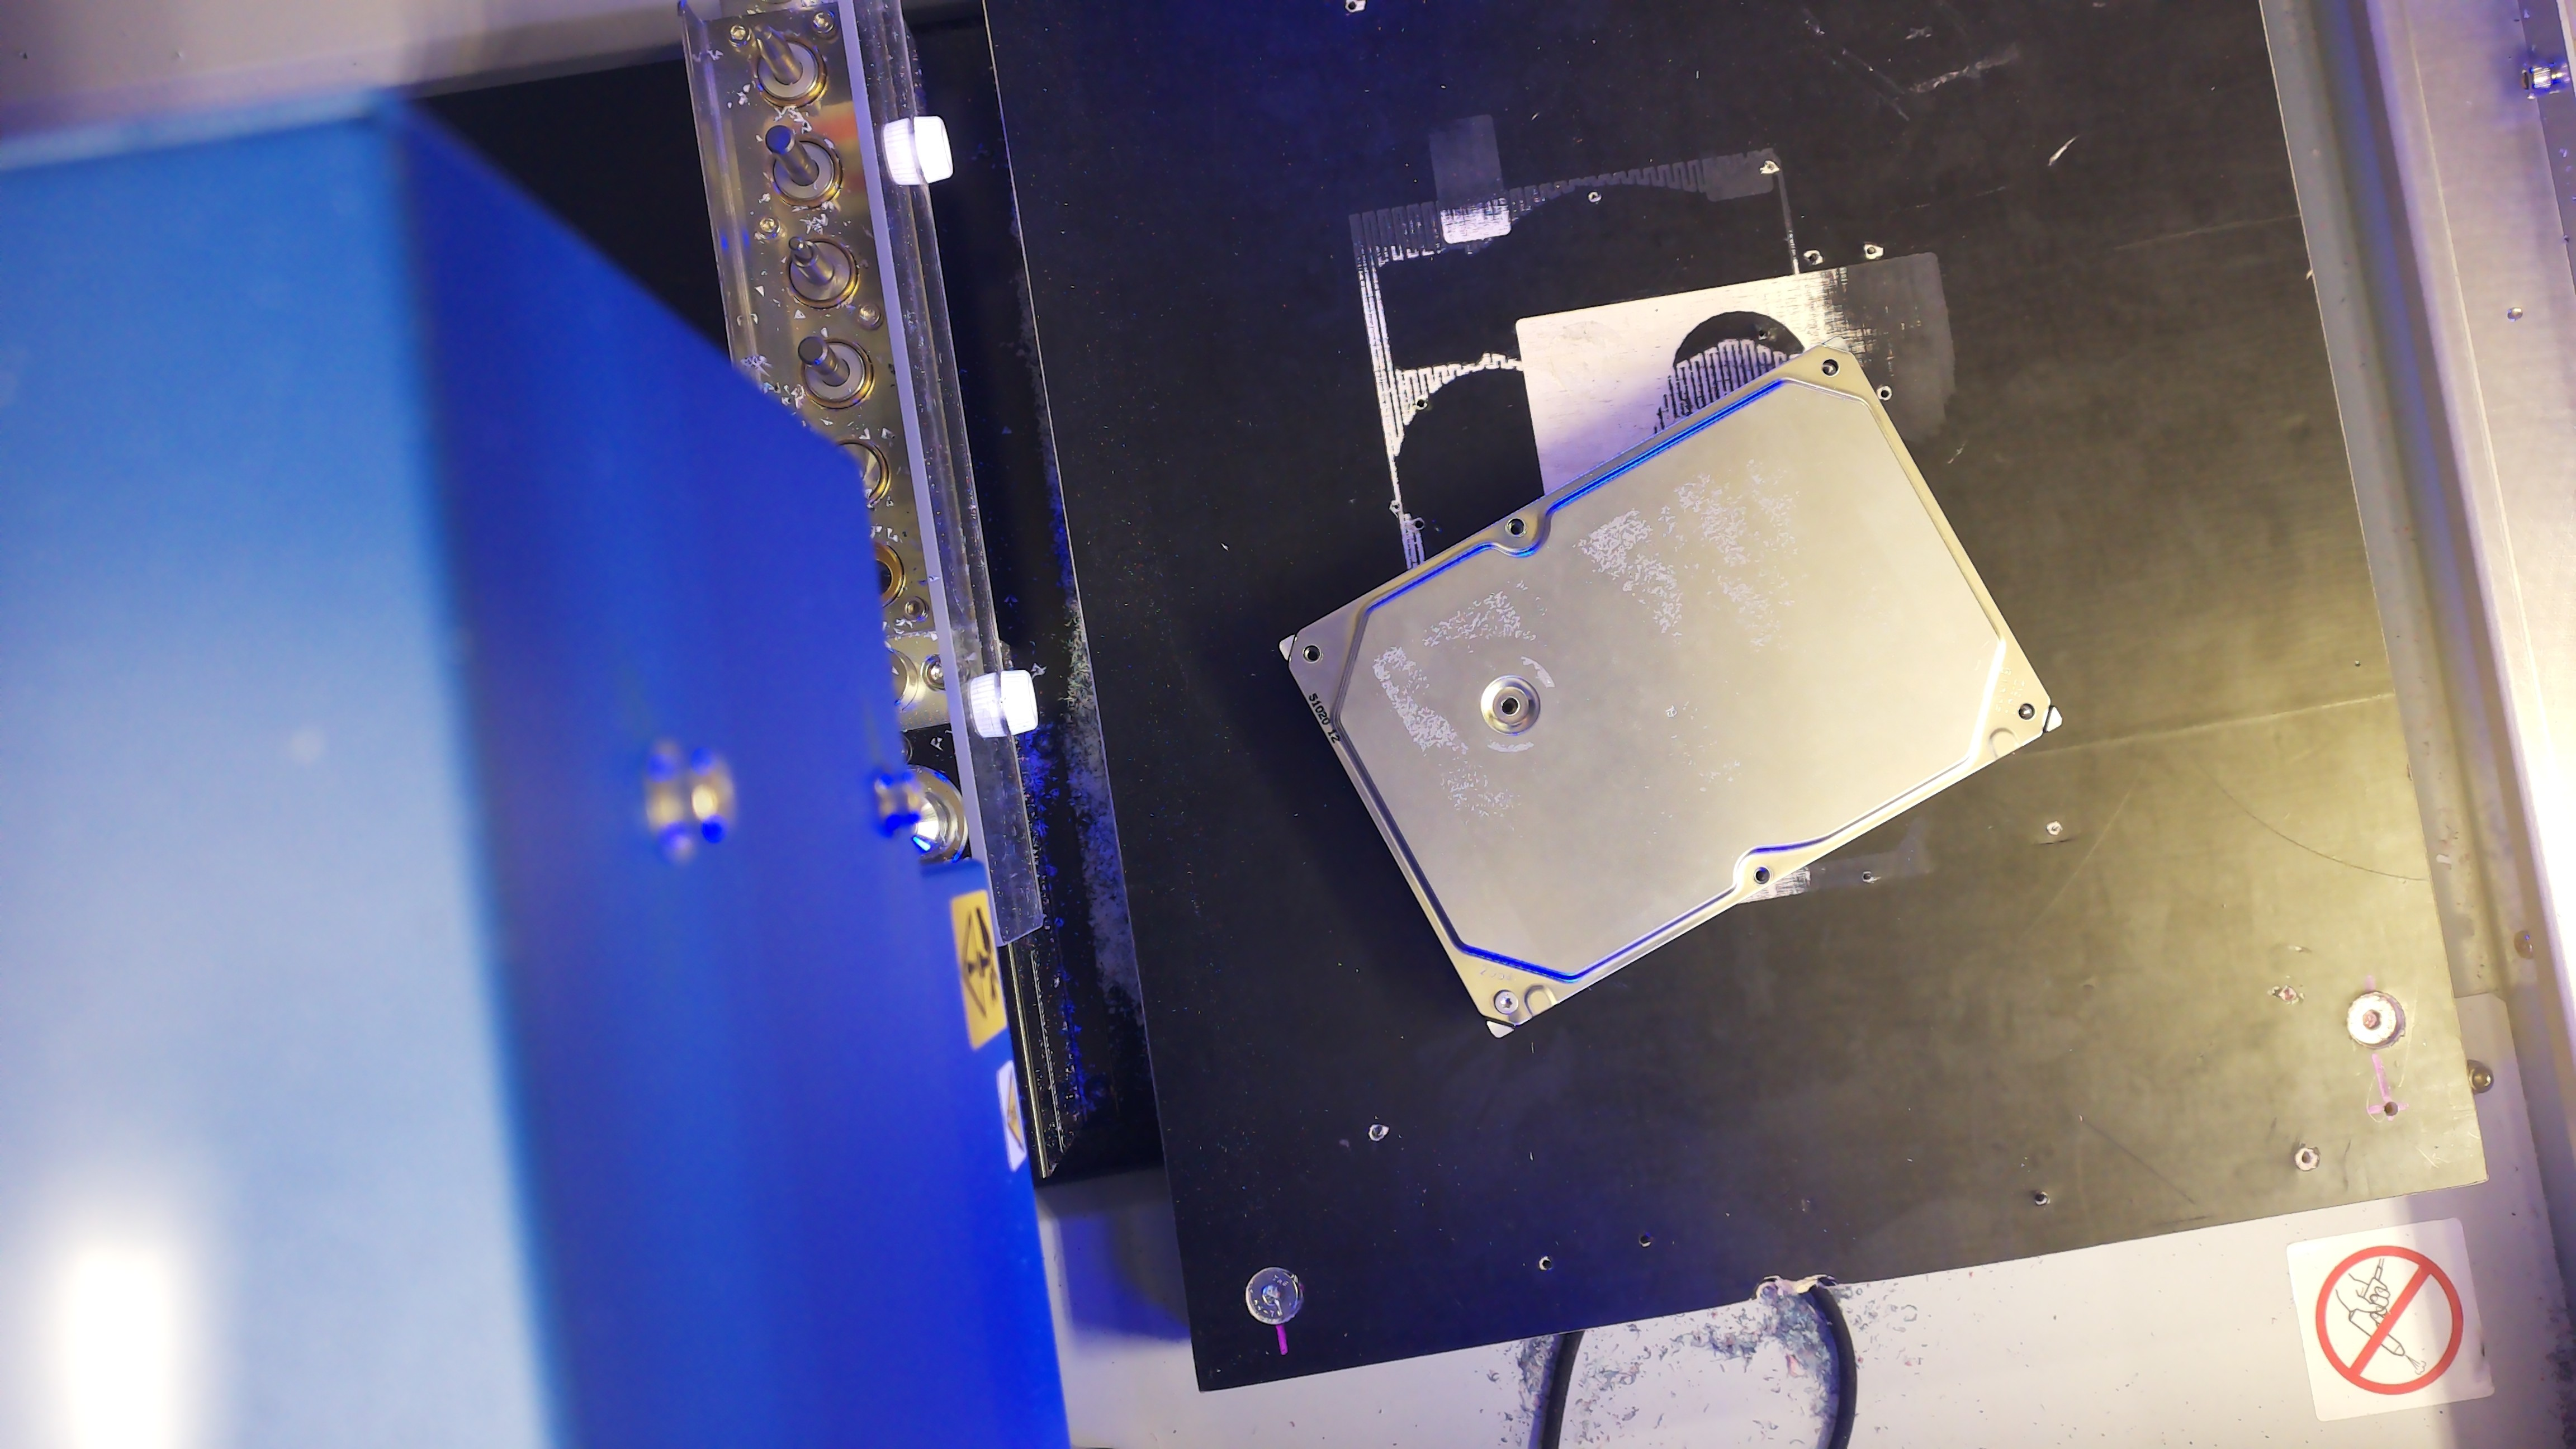Hole: (1504, 517, 1527, 538), (1499, 695, 1520, 717), (1300, 644, 1322, 663), (1821, 357, 1840, 379), (2017, 702, 2036, 722), (1752, 865, 1771, 885)
Screw: (1493, 989, 1518, 1014)
